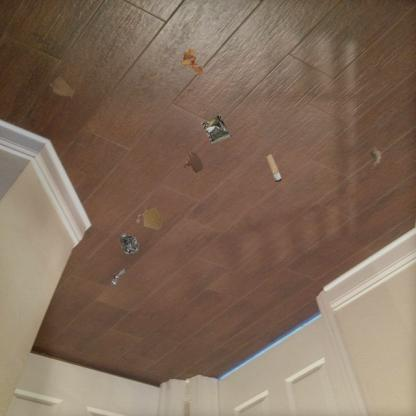dirty: (201, 112, 232, 146), (180, 46, 206, 78), (48, 74, 77, 101), (264, 151, 284, 184), (118, 232, 140, 256), (109, 268, 128, 286), (368, 146, 383, 167)
liquid: (134, 206, 164, 232), (182, 150, 204, 174)
